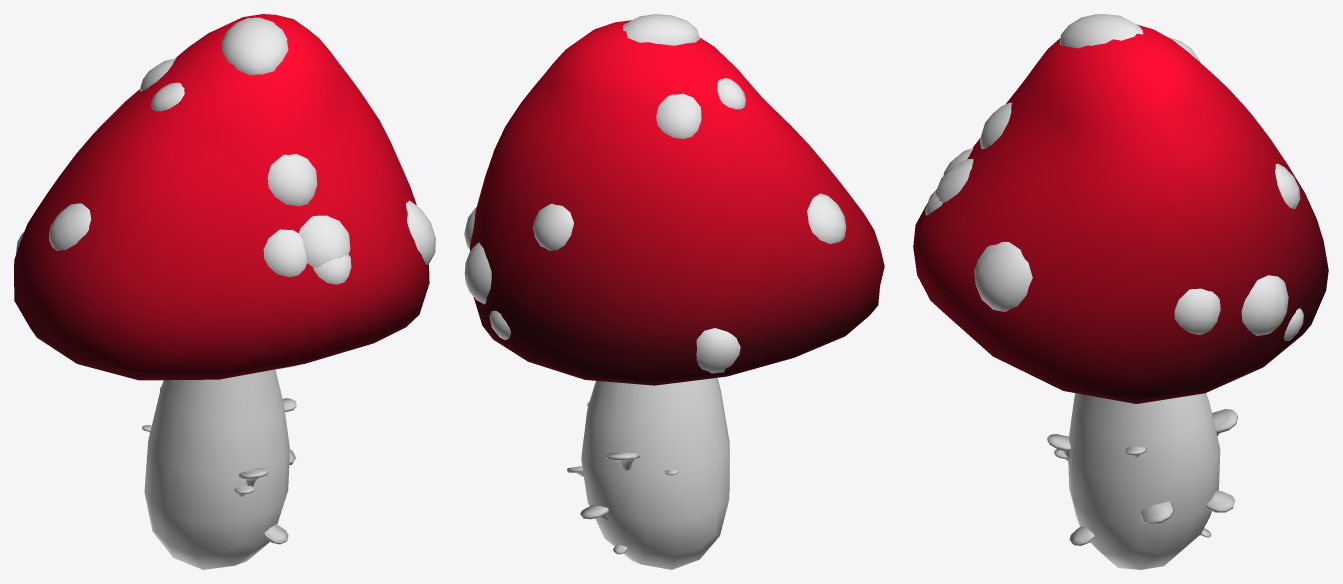
Rendered from seta_3.fbx.
The picture shows the model from 3 angles, left to right: view 1: azimuth 30°, elevation 25°; view 2: azimuth 150°, elevation 25°; view 3: azimuth 270°, elevation 25°; orthographic projection. The views are drawn at different scales.
Parts seen in each view (by area): view 1: Techo3, Tronco_3, Techo3|Bola_seta|Dupli|1, Techo3|Bola_seta|Dupli|7, Techo3|Bola_seta|Dupli|5, Techo3|Bola_seta|Dupli|2, Techo3|Bola_seta|Dupli|10, Techo3|Bola_seta|Dupli|3, Techo3|Bola_seta|Dupli|6, Techo3|Bola_seta|Dupli|; view 2: Techo3, Tronco_3, Techo3|Bola_seta|Dupli|1, Techo3|Bola_seta|Dupli|8, Techo3|Bola_seta|Dupli|9, Techo3|Bola_seta|Dupli|10, Techo3|Bola_seta|Dupli|4, Techo3|Bola_seta|Dupli|13, Techo3|Bola_seta|Dupli|; view 3: Techo3, Tronco_3, Techo3|Bola_seta|Dupli|3, Techo3|Bola_seta|Dupli|13, Techo3|Bola_seta|Dupli|1, Techo3|Bola_seta|Dupli|11, Techo3|Bola_seta|Dupli|5, Techo3|Bola_seta|Dupli|7, Techo3|Bola_seta|Dupli|4, Tronco_3|Seta_pequeña|Dupli|7.
Part boxes in pixels (x1,y1,x2,y2): Techo3: (14, 14, 429, 380); Tronco_3: (144, 369, 289, 569); Techo3|Bola_seta|Dupli|1: (221, 17, 288, 75); Techo3|Bola_seta|Dupli|7: (267, 154, 317, 206); Techo3|Bola_seta|Dupli|5: (299, 215, 350, 267); Techo3|Bola_seta|Dupli|2: (263, 229, 307, 277); Techo3|Bola_seta|Dupli|10: (49, 203, 91, 250); Techo3|Bola_seta|Dupli|3: (406, 200, 435, 264); Techo3|Bola_seta|Dupli|6: (313, 254, 351, 284); Techo3|Bola_seta|Dupli|: (151, 82, 184, 111); Techo3: (470, 20, 884, 385); Tronco_3: (581, 377, 729, 569); Techo3|Bola_seta|Dupli|1: (623, 14, 700, 45); Techo3|Bola_seta|Dupli|8: (656, 93, 701, 138); Techo3|Bola_seta|Dupli|9: (696, 328, 740, 373); Techo3|Bola_seta|Dupli|10: (807, 193, 846, 244); Techo3|Bola_seta|Dupli|4: (533, 203, 573, 250); Techo3|Bola_seta|Dupli|13: (464, 242, 491, 304); Techo3|Bola_seta|Dupli|: (717, 77, 745, 109); Techo3: (913, 24, 1328, 403); Tronco_3: (1068, 393, 1220, 569); Techo3|Bola_seta|Dupli|3: (974, 242, 1032, 311); Techo3|Bola_seta|Dupli|13: (1241, 275, 1288, 335); Techo3|Bola_seta|Dupli|1: (1060, 14, 1143, 48); Techo3|Bola_seta|Dupli|11: (1174, 288, 1220, 334); Techo3|Bola_seta|Dupli|5: (936, 159, 973, 202); Techo3|Bola_seta|Dupli|7: (980, 102, 1012, 148); Techo3|Bola_seta|Dupli|4: (1275, 163, 1300, 209); Tronco_3|Seta_pequeña|Dupli|7: (1141, 501, 1174, 524).
Bounding box in the file's own units: 411 × 575 × 388.
